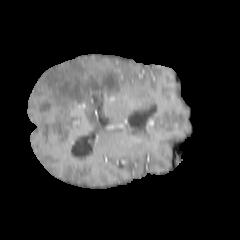glioma: (37, 60, 121, 133)
